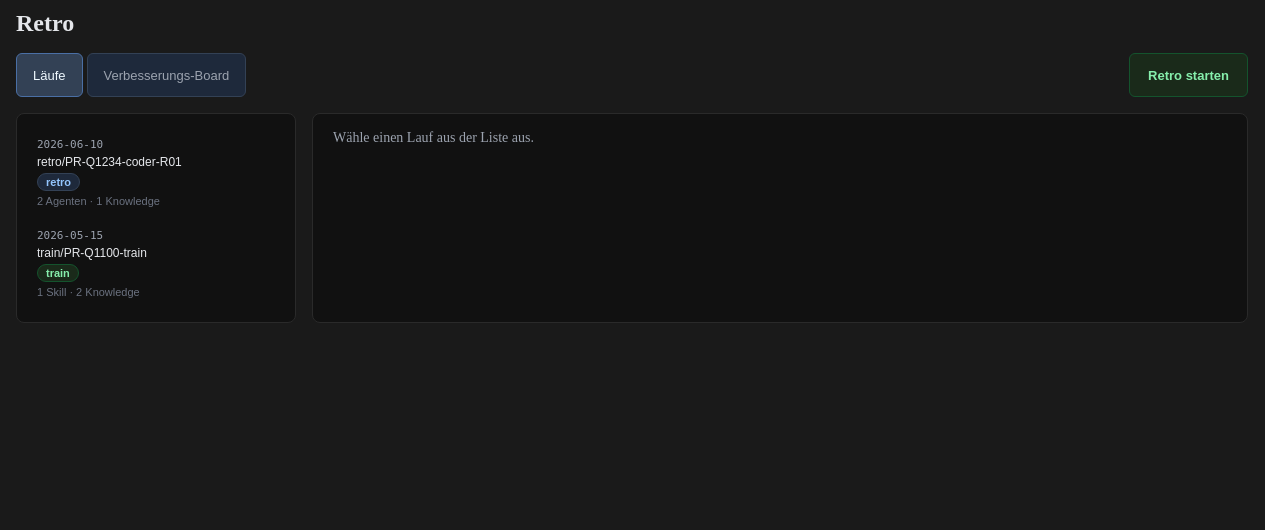
retro-view-frontend — AC5: Selection loads report › report shows Agenten section with rule text
Click the button that starts with "retro/PR-Q1234-coder-R01". click: [70, 144]
box: [25,128,287,217]
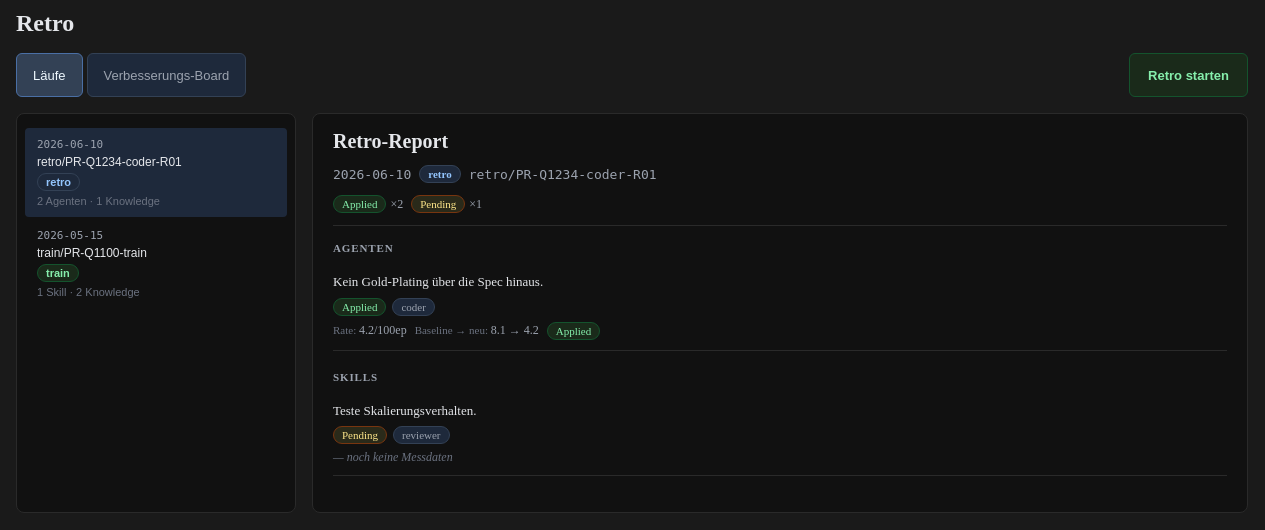
Expected: the element named "Agenten" is shown, [333,242,1227,350]
Expected: the text "Kein Gold-Plating über die Spec hinaus." is shown, [333,274,543,289]
